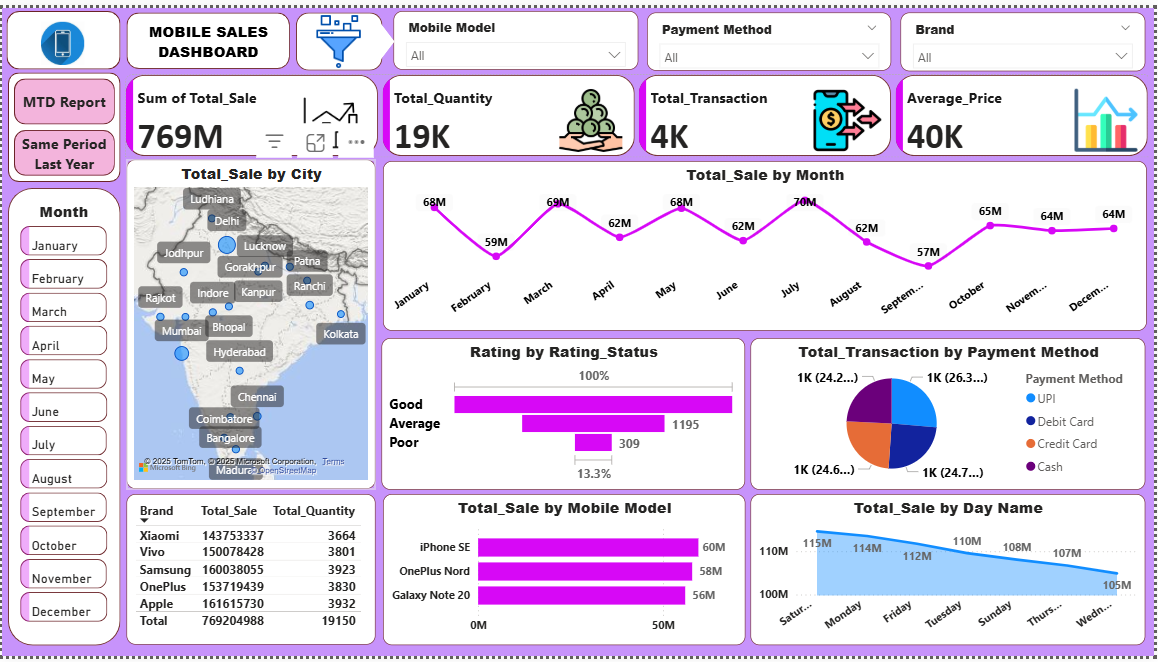

The page's visual inventory and layout, read from the dashboard file:
{"tool":"powerbi","page":{"name":"Dashboard","canvas":[1280,720],"ordinal":0},"visuals":[{"type":"shape","box":[5,3.3,126.7,65],"z":0},{"type":"image","box":[16.7,10,101.7,58.3],"z":1000},{"type":"shape","box":[6.7,200,125,508.3],"z":2000,"group":"g1"},{"type":"cardVisual","fields":{"Data":["Sum(Raw_Data.Total_Sale)","Raw_Data.Total_Quantity","Raw_Data.Total_Transaction","Raw_Data.Average_Price"]},"box":[130.9,67.9,1149.6,102.7],"z":2000},{"type":"shape","box":[6.7,71.7,125,121.7],"z":3000},{"type":"slicer","fields":{"Values":["Raw_Data.Mobile Model"]},"box":[435,3.3,271.7,65],"z":4000},{"type":"advancedSlicerVisual","fields":{"Values":["custom_calendar.Date.Variation.Date Hierarchy.Month"]},"box":[14.9,215.3,107.7,477.1],"z":4000,"group":"g1"},{"type":"slicer","fields":{"Values":["Raw_Data.Payment Method"]},"box":[717.3,5,271.7,64.6],"z":5000},{"type":"slicer","fields":{"Values":["Raw_Data.Brand"]},"box":[998.1,5,271.7,65],"z":6000},{"type":"shape","box":[326.3,5,96.1,64.6],"z":7000},{"type":"image","box":[331.3,1.7,84.5,71.2],"z":8000},{"type":"shape","box":[404.2,16.6,31.5,41.4],"z":9000},{"type":"shape","box":[139.1,5,182.2,62.9],"z":10000},{"type":"textbox","box":[154.1,9.9,152.4,56.3],"z":11000},{"type":"map","title":" Total_Sale by City","fields":{"Category":["Raw_Data.City"],"Size":["Sum(Raw_Data.Total_Sale)"]},"box":[139.1,169,276.6,366.1],"z":12000},{"type":"lineChart","title":"Total_Sale by Month","fields":{"Y":["Sum(Raw_Data.Total_Sale)"],"Category":["custom_calendar.Date.Variation.Date Hierarchy.Month"]},"box":[423.3,170.1,848.5,189],"z":13000},{"type":"funnel","title":"Rating by Rating_Status","fields":{"Y":["CountNonNull(Raw_Data.Customer Age)"],"Category":["Raw_Data.Rating_Status"]},"box":[422.3,366.5,404.2,169],"z":14000},{"type":"pieChart","fields":{"Y":["Raw_Data.Total_Transaction"],"Category":["Raw_Data.Payment Method"]},"box":[831.5,366.5,439,169],"z":15000},{"type":"clusteredBarChart","title":"Total_Sale by Mobile Model","fields":{"Y":["Sum(Raw_Data.Total_Sale)"],"Category":["Raw_Data.Mobile Model"]},"box":[423.3,540.5,402.5,168.2],"z":16000},{"type":"areaChart","title":"Total_Sale by Day Name","fields":{"Y":["Sum(Raw_Data.Total_Sale)"],"Category":["custom_calendar.Day Name"]},"box":[831.5,540.5,438.4,168.2],"z":17000},{"type":"tableEx","fields":{"Values":["Raw_Data.Brand","Sum(Raw_Data.Total_Sale)","Raw_Data.Total_Quantity"]},"box":[139.1,540,276.6,167.3],"z":18000},{"type":"group","id":"g1","title":"Group 1","box":[6.7,200,125,508.3],"z":19000},{"type":"pageNavigator","box":[13.3,77.9,112.6,109.3],"z":20000}]}

Visuals, with their boxes in screenshot pixels (x1, y1, x2, y2), scaled from the page's 1280x720 canvas onto the 1158x662 screenshot:
shape: box(5, 3, 119, 63)
image: box(15, 9, 107, 63)
shape: box(6, 184, 119, 651)
cardVisual - Sum(Raw_Data.Total_Sale) x Raw_Data.Total_Quantity: box(118, 62, 1157, 157)
shape: box(6, 66, 119, 178)
slicer - Raw_Data.Mobile Model: box(394, 3, 639, 63)
advancedSlicerVisual - custom_calendar.Date.Variation.Date Hierarchy.Month: box(13, 198, 111, 637)
slicer - Raw_Data.Payment Method: box(649, 5, 895, 64)
slicer - Raw_Data.Brand: box(903, 5, 1149, 64)
shape: box(295, 5, 382, 64)
image: box(300, 2, 376, 67)
shape: box(366, 15, 394, 53)
shape: box(126, 5, 291, 62)
textbox: box(139, 9, 277, 61)
" Total_Sale by City" map: box(126, 155, 376, 492)
"Total_Sale by Month" lineChart: box(383, 156, 1151, 330)
"Rating by Rating_Status" funnel: box(382, 337, 748, 492)
pieChart - Raw_Data.Total_Transaction x Raw_Data.Payment Method: box(752, 337, 1149, 492)
"Total_Sale by Mobile Model" clusteredBarChart: box(383, 497, 747, 652)
"Total_Sale by Day Name" areaChart: box(752, 497, 1149, 652)
tableEx - Raw_Data.Brand x Sum(Raw_Data.Total_Sale): box(126, 496, 376, 650)
"Group 1" group: box(6, 184, 119, 651)
pageNavigator: box(12, 72, 114, 172)
